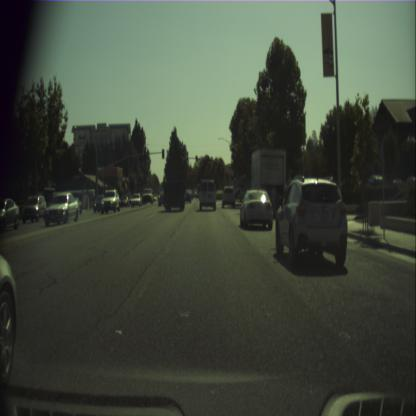Green: (196, 154, 198, 162), (207, 156, 209, 164), (234, 173, 236, 181), (244, 174, 245, 178)
Red: (180, 154, 182, 162)
off: (162, 148, 164, 158)
